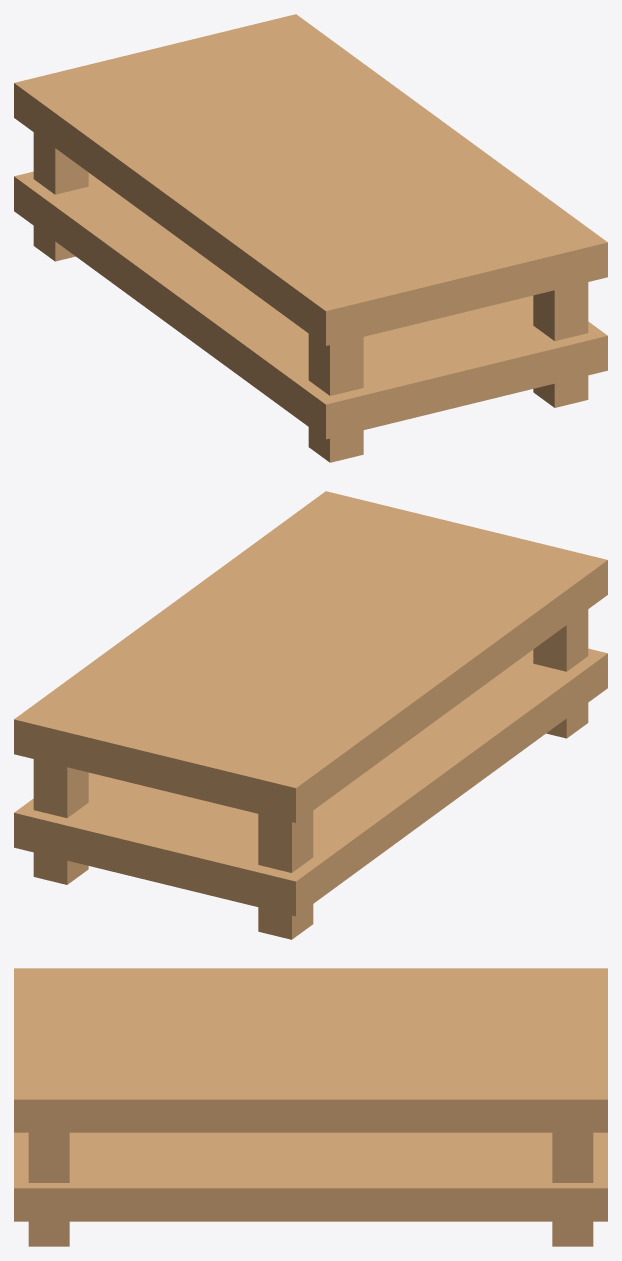
Rendered from table_coffee.fbx.
3 renders of one model, top to bottom at view 1: azimuth 30°, elevation 25°; view 2: azimuth 150°, elevation 25°; view 3: azimuth 270°, elevation 25°, orthographic. The views are drawn at different scales.
Parts seen in each view (by area): view 1: table_coffee; view 2: table_coffee; view 3: table_coffee.
Boxes of the visible parts, x1=… form: table_coffee: x1=14, y1=14, x2=607, y2=462; table_coffee: x1=14, y1=491, x2=607, y2=939; table_coffee: x1=14, y1=968, x2=607, y2=1246.
Size of the model in its own units: 169 by 88.25 by 47.87.
